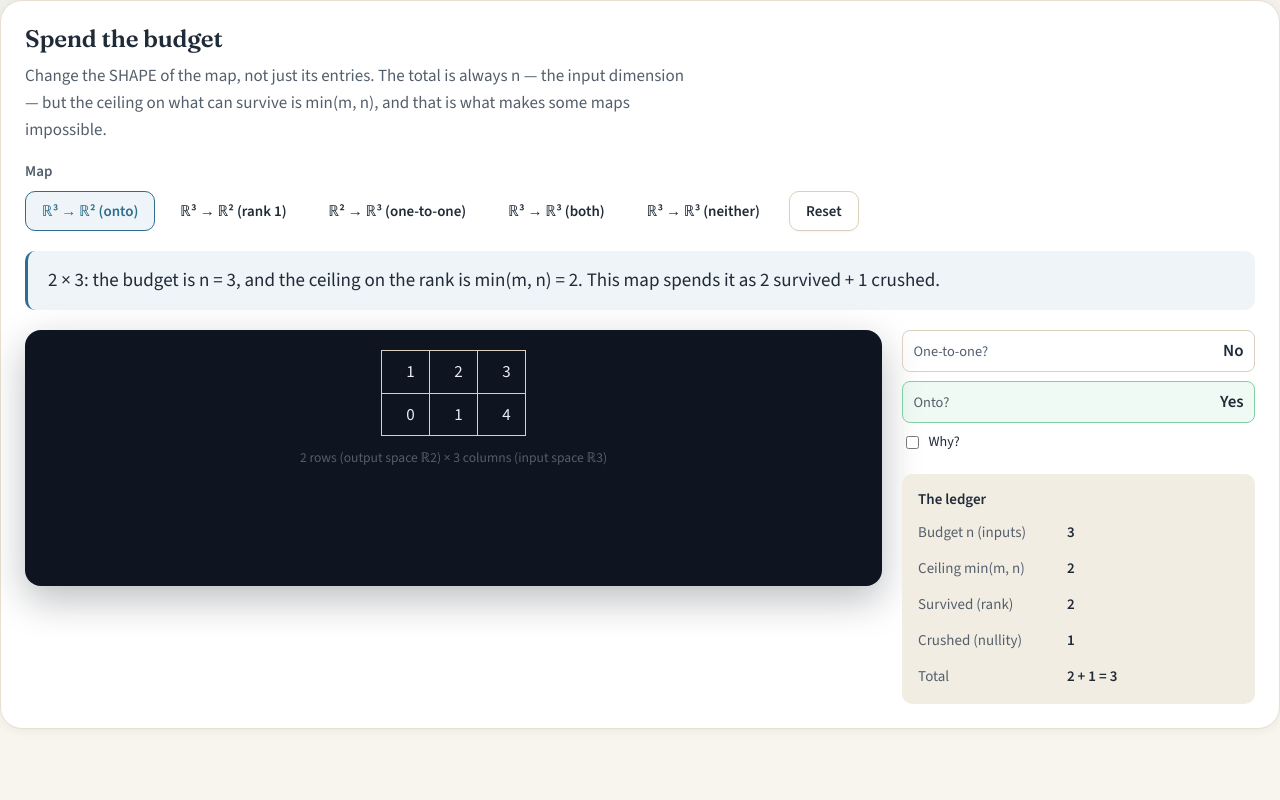
RankNullityExplorer › shows a tall map is one-to-one but cannot be onto
Click the button "ℝ² → ℝ³ (one-to-one)": (397, 211) [312,191,483,231]
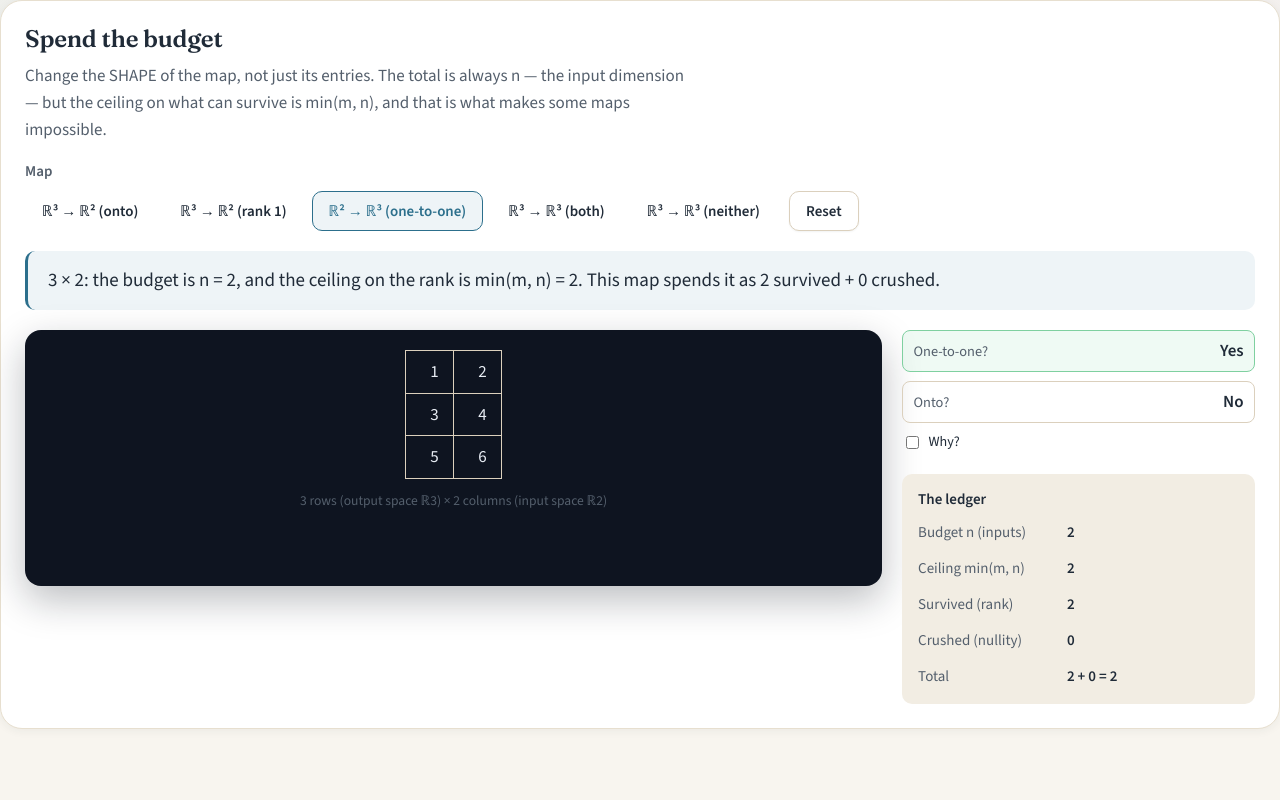
Check: the text with test id "rn-injective" reads "Yes", box [1220,339,1244,362]
Check: the text with test id "rn-surjective" reads "No", box [1223,390,1244,413]
